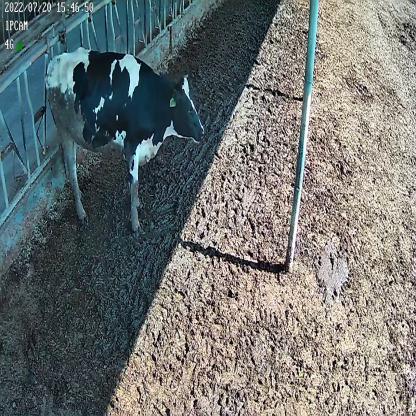cow: (45, 48, 206, 237)
